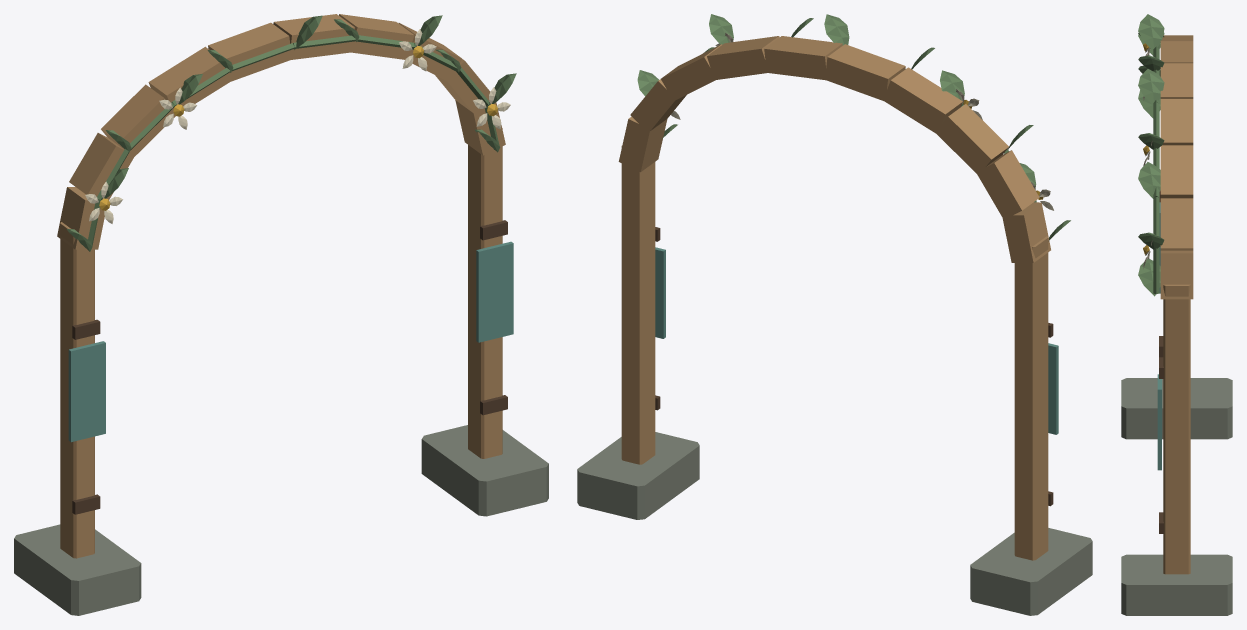
The model's file is festival_arch_summer.glb.
3 views of the same model, side by side, from view 1: azimuth 30°, elevation 25°; view 2: azimuth 150°, elevation 25°; view 3: azimuth 270°, elevation 25° (orthographic). The views are drawn at different scales.
Visible parts, largest first — view 1: geometry; view 2: geometry; view 3: geometry.
Boxes of the visible parts, x1,y1,x2,y2 form: geometry: (14,14,548,615); geometry: (577,14,1092,615); geometry: (1121,14,1232,615).
Size of the model in its own units: 2.86 by 3.01 by 0.65.
